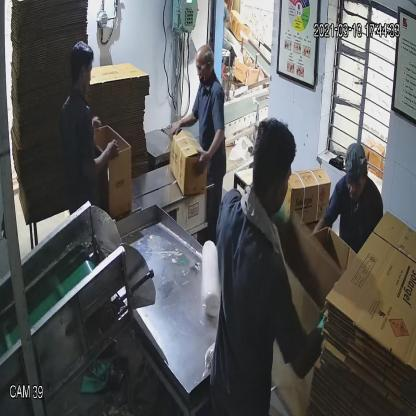no_glove: (80, 135, 122, 178), (191, 126, 228, 172), (168, 111, 201, 137)
